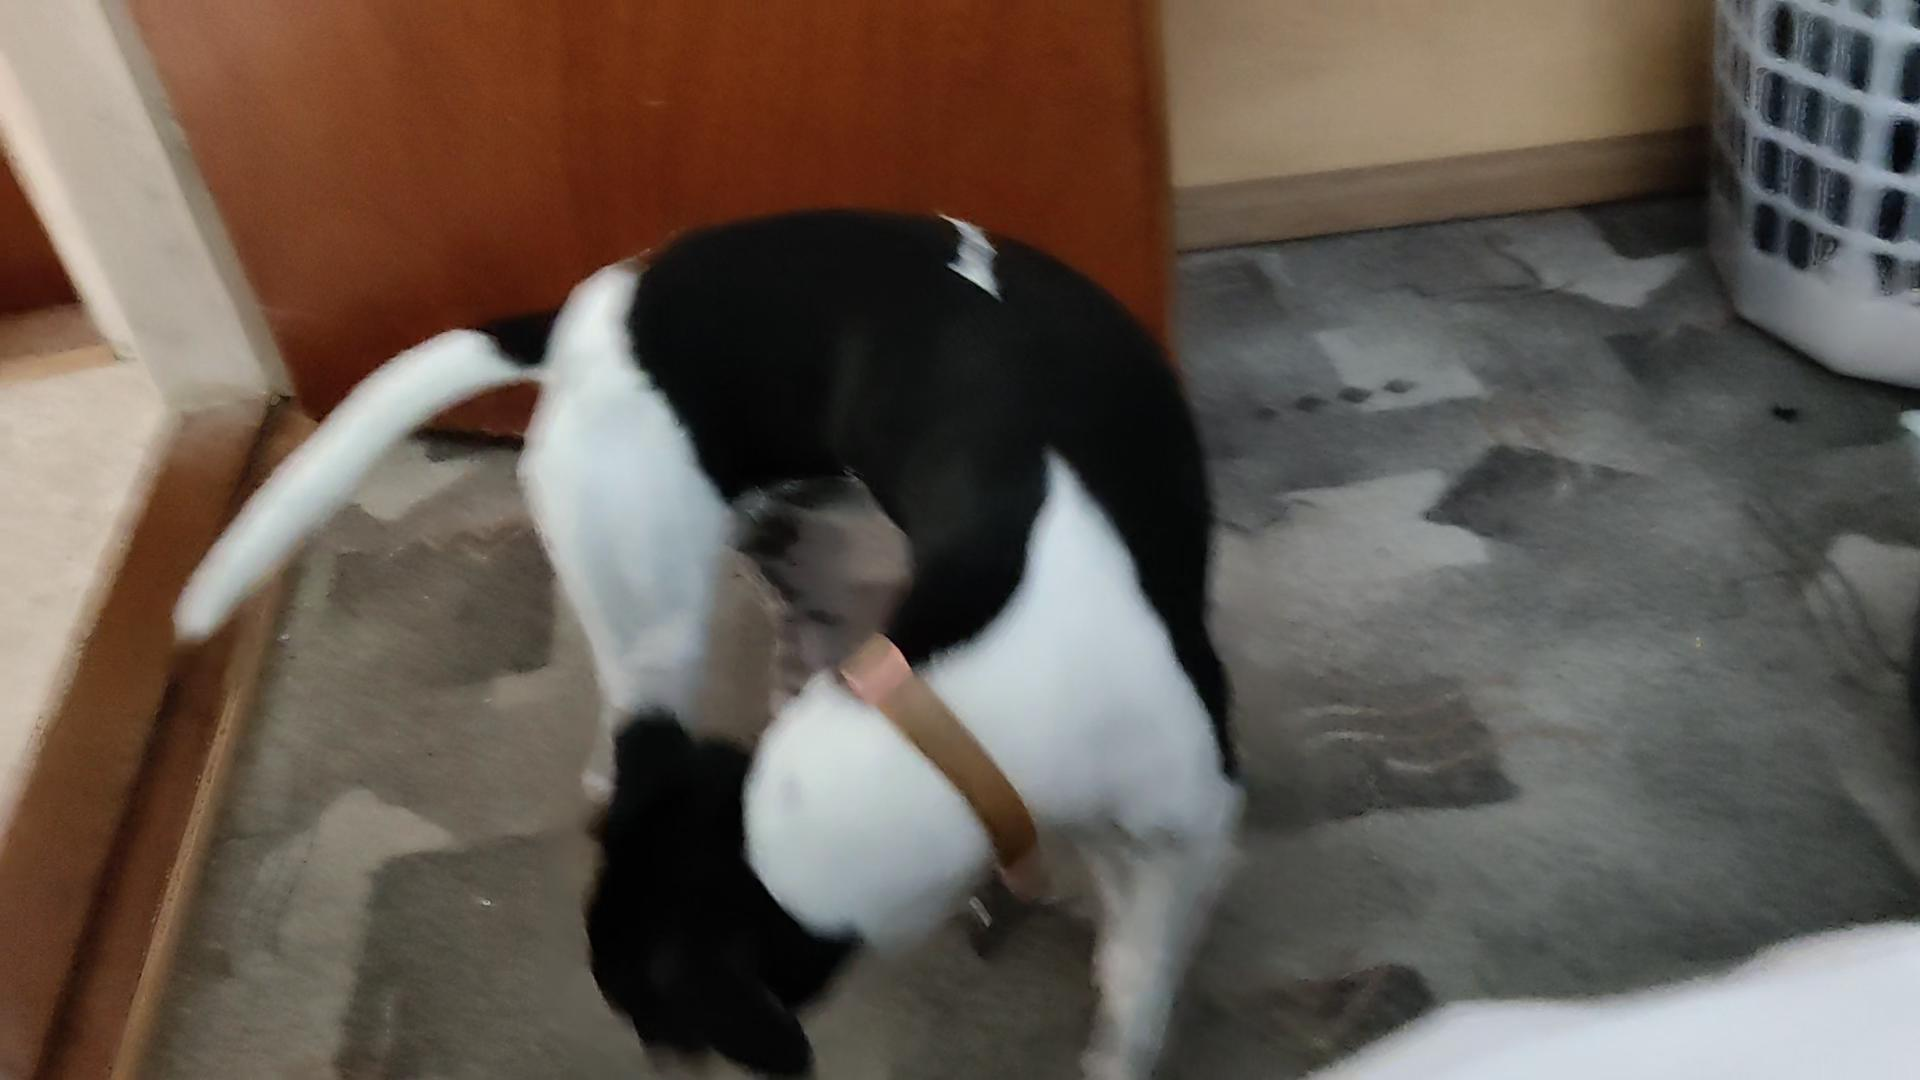Dog: (158, 191, 1284, 1079)
